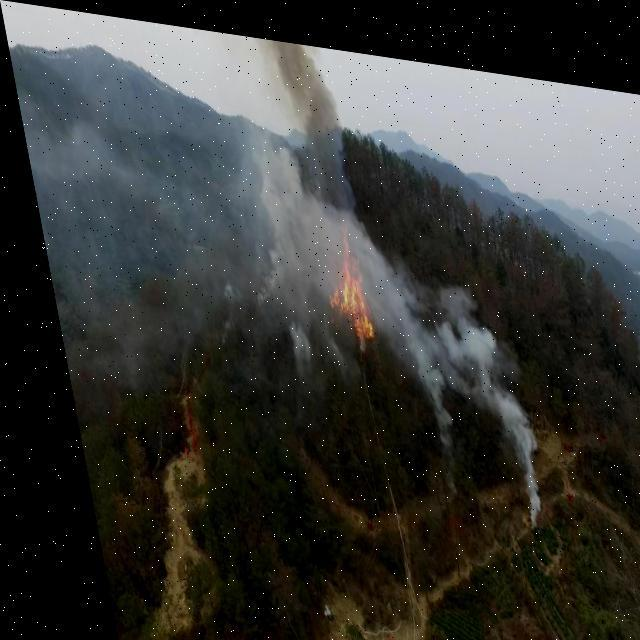Fire: (264, 172, 404, 369)
